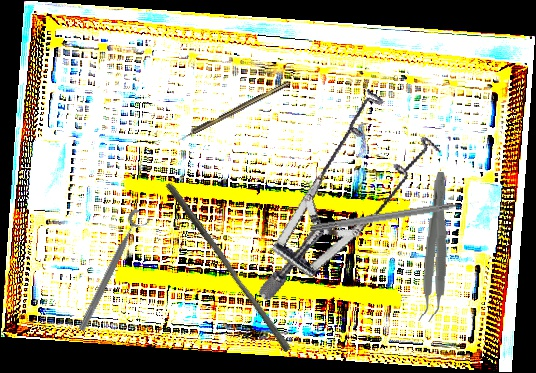Fixation Ring: (74, 207, 153, 337)
Hook Surgical: (175, 80, 291, 143), (310, 197, 480, 235)
Pusher: (158, 180, 298, 354)
Speculum: (205, 72, 469, 304)
Tissue Forceps: (417, 171, 451, 323)
